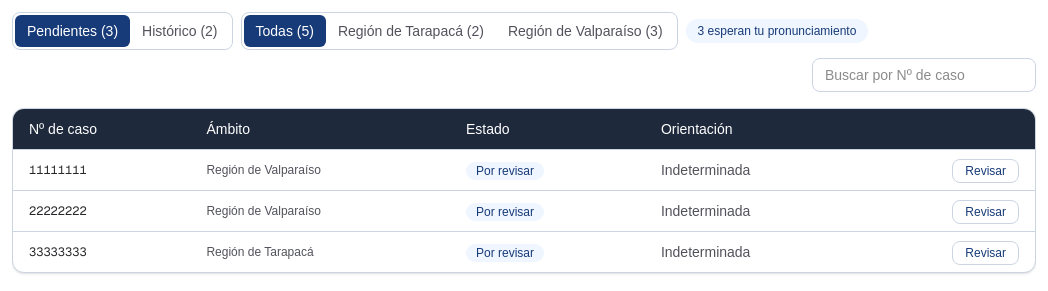
bandeja global de un médico con dos ámbitos › la búsqueda alcanza los casos de CUALQUIER ámbito suyo
Expected: the button "Pendientes (3)" is shown, [15,15,130,47]
In the field with placeholder "Buscar por Nº de caso": (924, 75) [812,58,1036,92], type "3333"
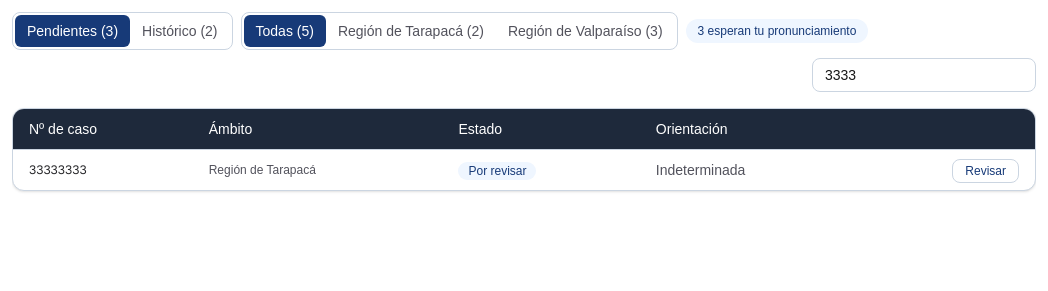
Expected: the text "33333333" is shown, [13,150,193,190]
Now the text "11111111" is gone
